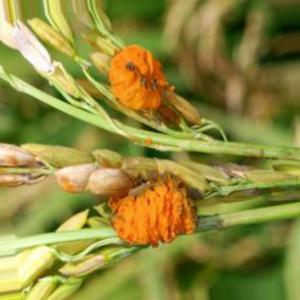Leaf_Scald: (113, 185, 194, 247), (114, 48, 166, 116)
